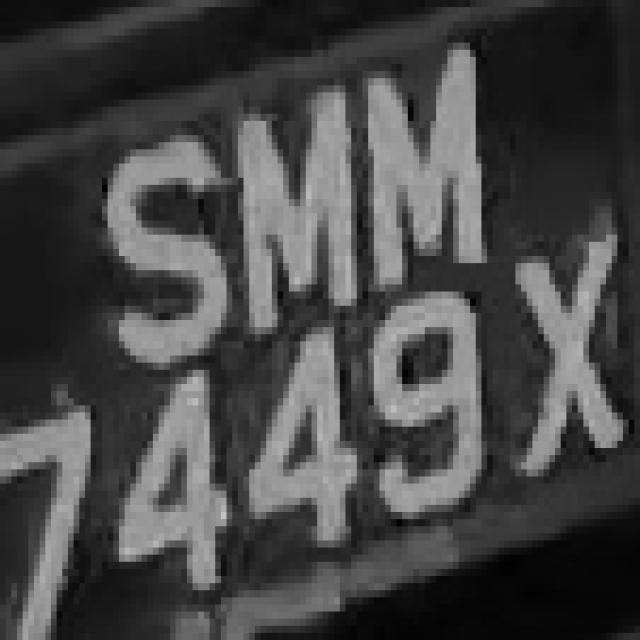4: (210, 306, 362, 576), (96, 356, 249, 612)
7: (0, 403, 93, 640), (0, 4, 1, 8)
9: (351, 270, 504, 526)
M: (221, 78, 374, 356), (346, 57, 482, 284)
S: (91, 121, 221, 363)
X: (487, 228, 640, 490)
